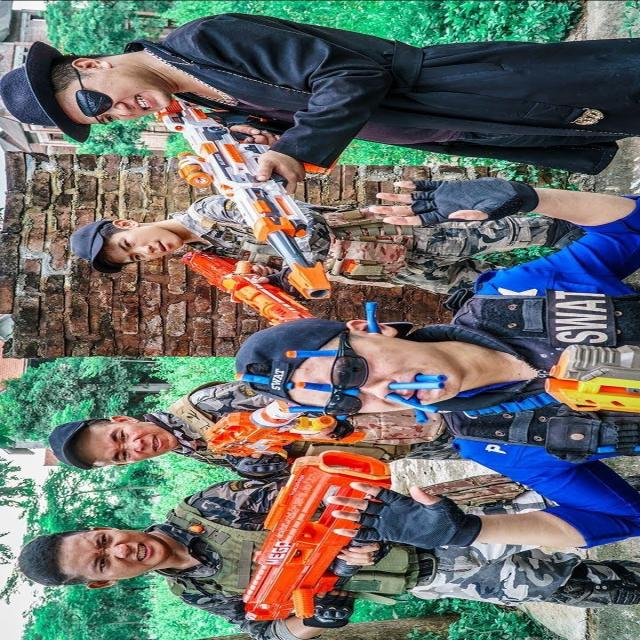Nerf gun: (153, 95, 350, 305), (231, 443, 405, 628), (193, 398, 374, 462), (171, 249, 311, 327)
